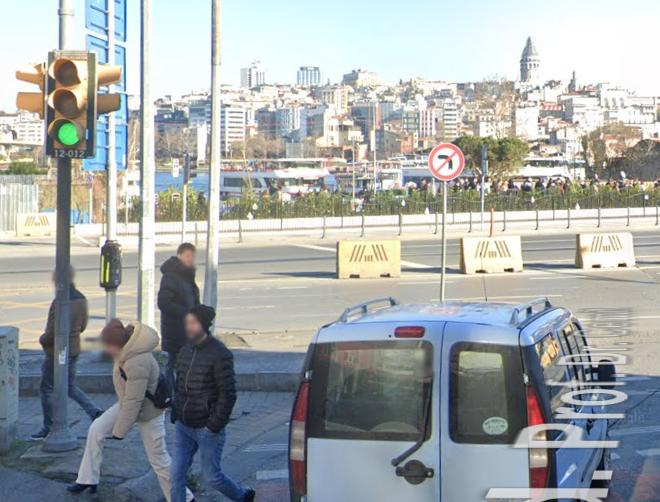greenlight: (45, 48, 96, 158)
leftturnsareforbidden: (429, 142, 464, 181)
